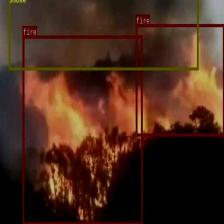fire: (22, 35, 142, 224), (135, 24, 224, 136)
smoke: (8, 0, 199, 70)
